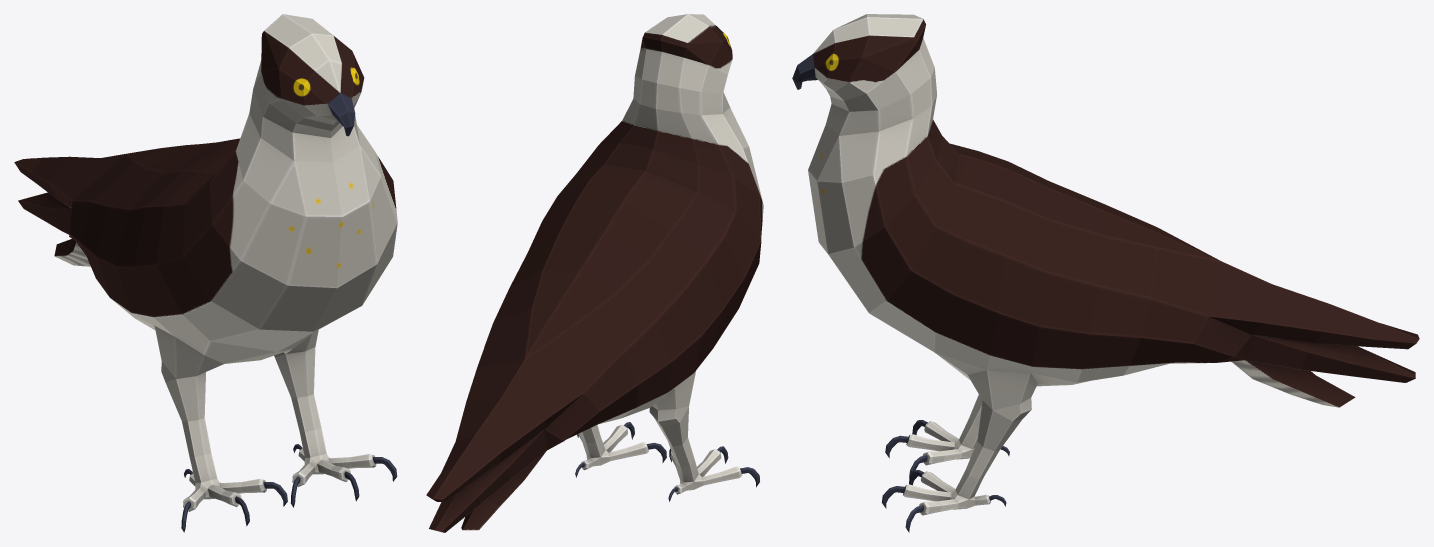
The model's file is f616841b-8e37-4469-ae21-54fab29b23f7.glb.
3 renders of one model, left to right at view 1: azimuth 30°, elevation 25°; view 2: azimuth 150°, elevation 25°; view 3: azimuth 270°, elevation 25°, orthographic. The views are drawn at different scales.
Visible parts, largest first — view 1: Osprey_mesh; view 2: Osprey_mesh; view 3: Osprey_mesh.
Boxes of the visible parts, <box> form: Osprey_mesh: <box>14,14,397,532</box>; Osprey_mesh: <box>426,14,763,532</box>; Osprey_mesh: <box>792,14,1419,532</box>.
Size of the model in its own units: 5.22 by 11.13 by 13.44.
Materials: 1 (1 with a texture image).
